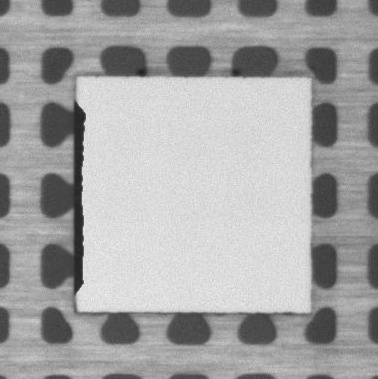DIE_BROKEN: (71, 103, 88, 299)
